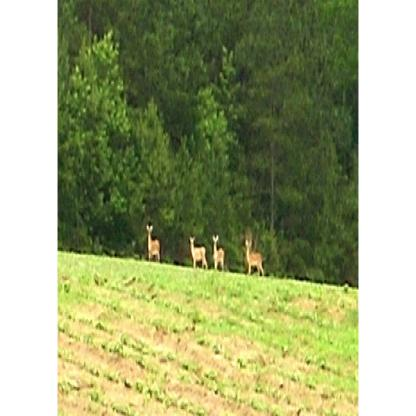Deer: (245, 237, 265, 279), (145, 223, 161, 265), (189, 235, 208, 270), (212, 233, 224, 273)
